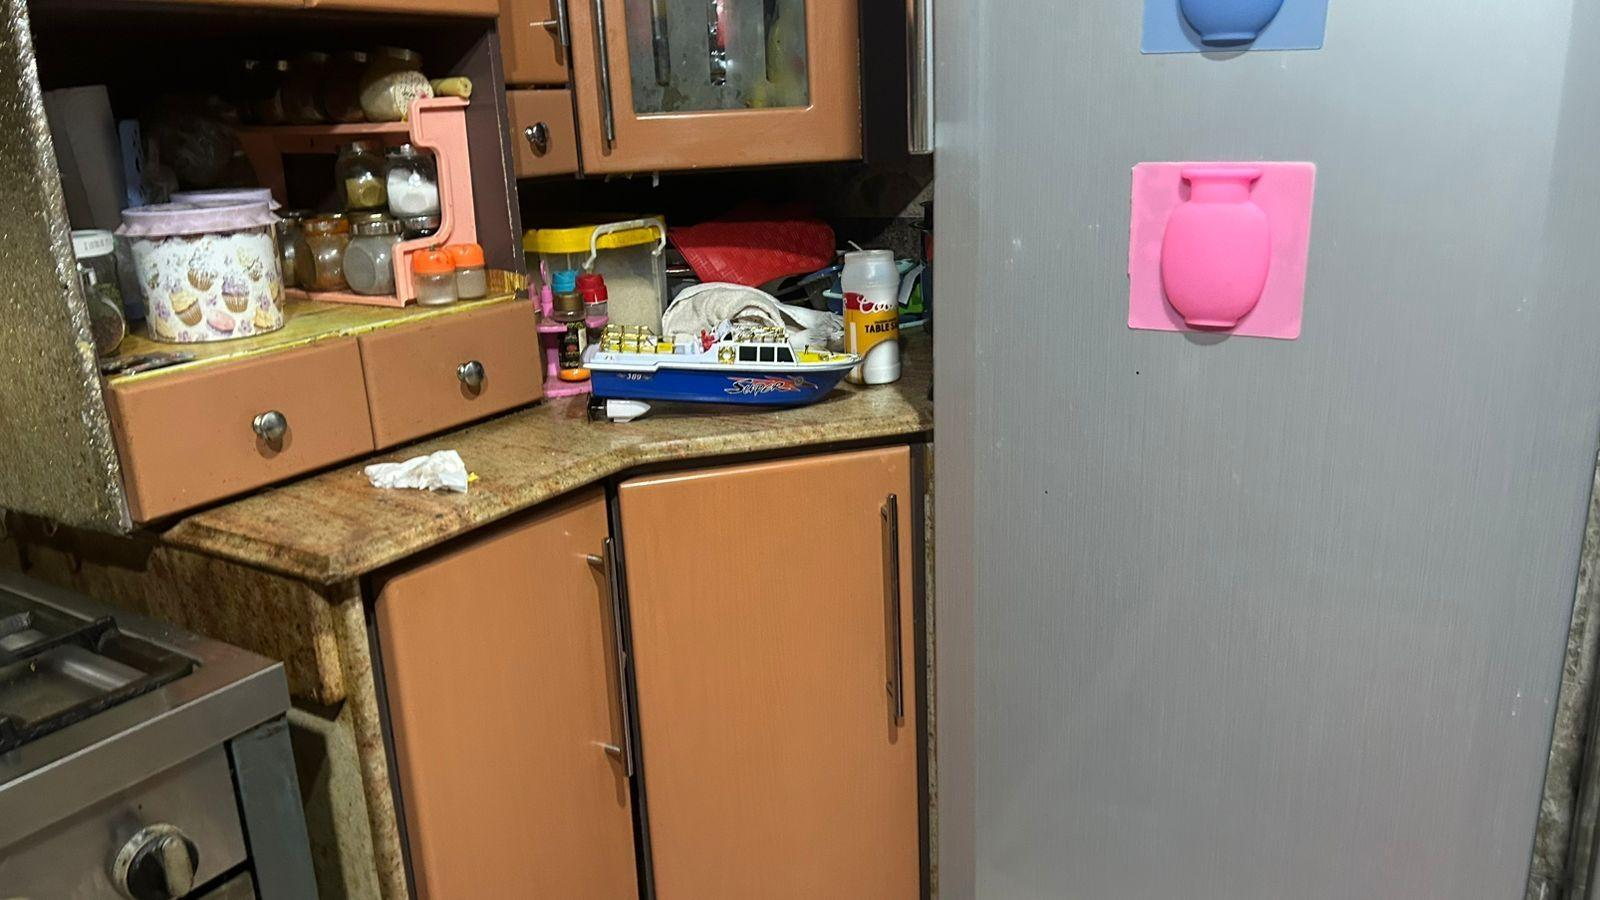Boat: (581, 319, 866, 427)
